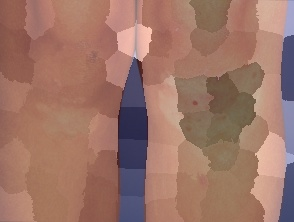vitiligo: (153, 58, 282, 180), (25, 90, 105, 142)
